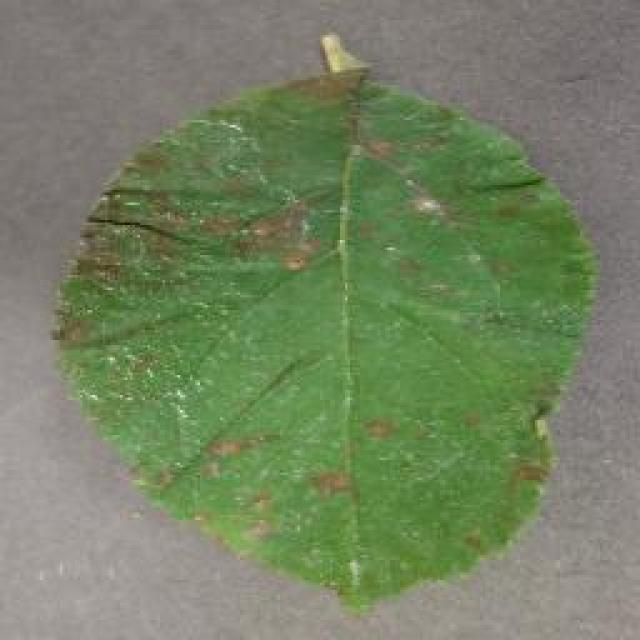apple rust disease: (48, 30, 600, 615)
